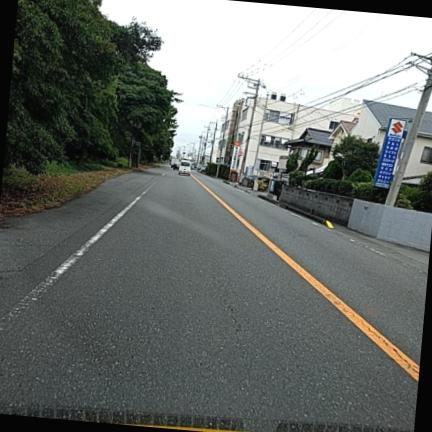Road: (0, 167, 427, 429)
